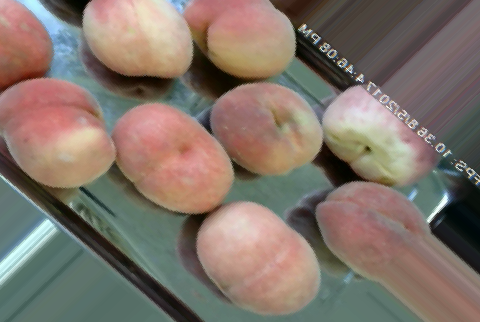Peach: (198, 201, 320, 315), (115, 102, 234, 213), (0, 76, 112, 188), (322, 83, 436, 184), (210, 81, 322, 174), (181, 1, 296, 79), (82, 0, 193, 77)
